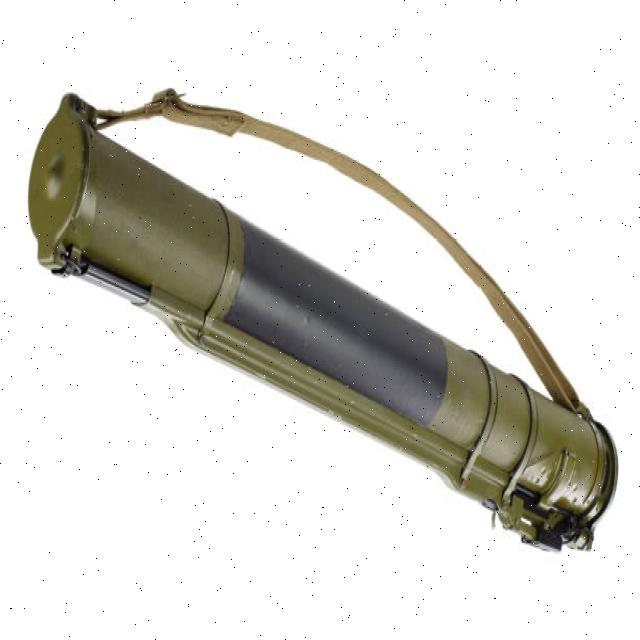bazooka: (28, 81, 623, 566)
